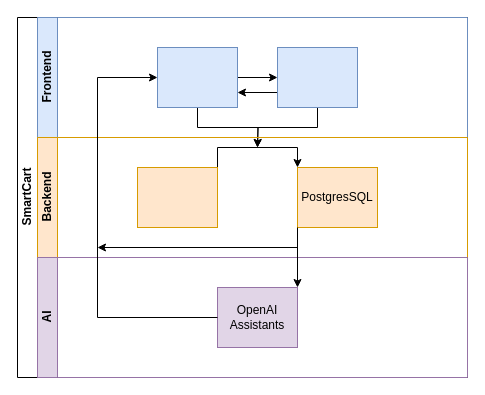
This 485x395 diagram has some shape labels left out. The box of each missing label's shape, as (x1, y1, x2, y2) in pixels:
Admin Panel: (276, 46, 358, 108)
Customer Facing UI: (156, 46, 238, 108)
Heroku: (136, 166, 218, 228)
